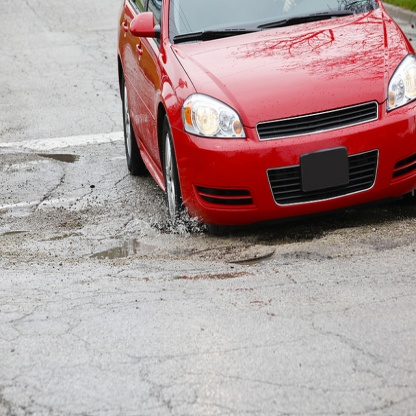pothole: (1, 215, 285, 272)
